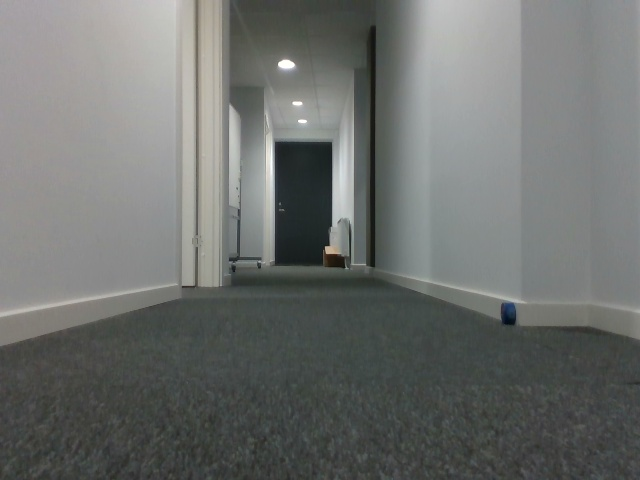alfa: (499, 300, 518, 326)
